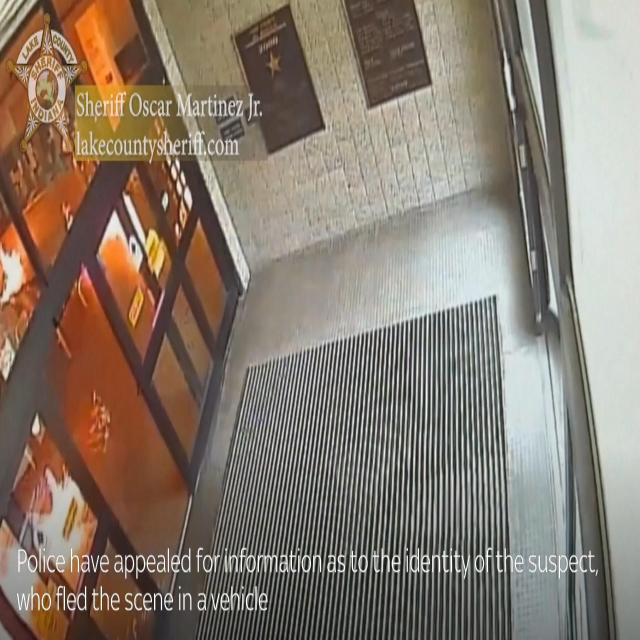fire: (0, 465, 84, 616), (0, 240, 25, 304), (89, 387, 111, 453)
